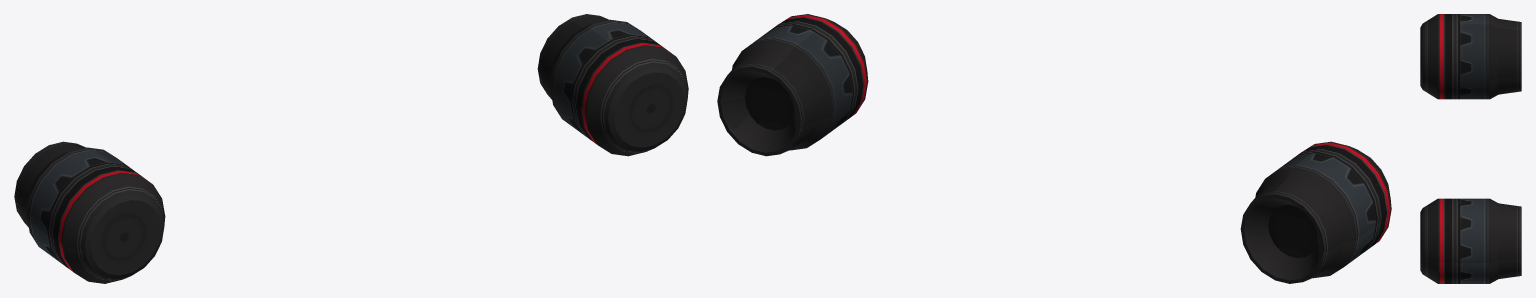
File: Mod-Q_blue.FBX
The picture shows the model from 3 angles, left to right: view 1: azimuth 30°, elevation 25°; view 2: azimuth 150°, elevation 25°; view 3: azimuth 270°, elevation 25°; orthographic projection. The views are drawn at different scales.
Visible parts, largest first — view 1: Mod-Q_Right, Mod-Q_Left; view 2: Mod-Q_Left, Mod-Q_Right; view 3: Mod-Q_Left, Mod-Q_Right.
Boxes of the visible parts, x1,y1,x2,y2 form: Mod-Q_Right: (14, 141, 165, 283); Mod-Q_Left: (537, 14, 688, 156); Mod-Q_Left: (717, 14, 868, 156); Mod-Q_Right: (1240, 141, 1391, 283); Mod-Q_Left: (1420, 198, 1521, 283); Mod-Q_Right: (1420, 14, 1521, 99).
Bounding box in the file's own units: 11416 × 2211 × 1847.
